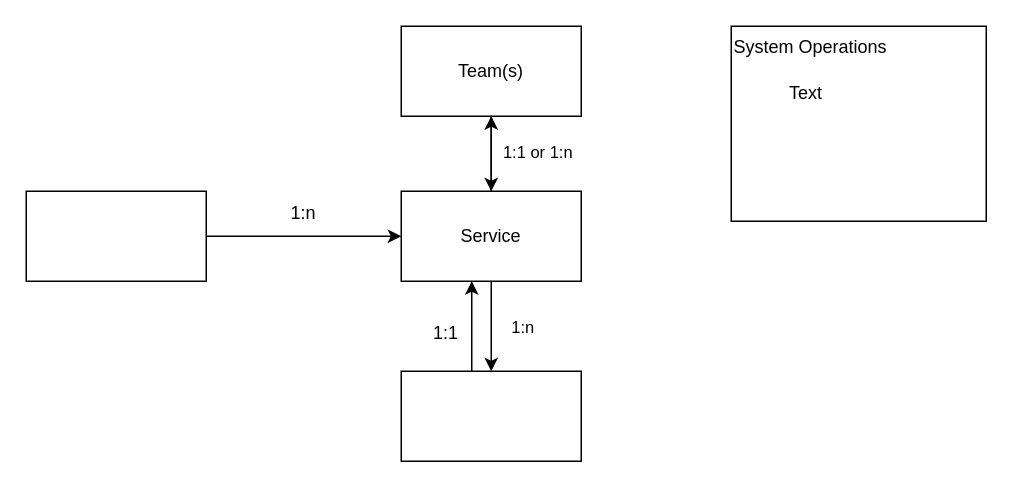
This 1013x488 diagram has some shape labels left out. Here are the shapes that lost their labels. From the top down, the box of each, then its label:
(25, 190, 206, 281): Application
(400, 370, 581, 461): Subdomain
